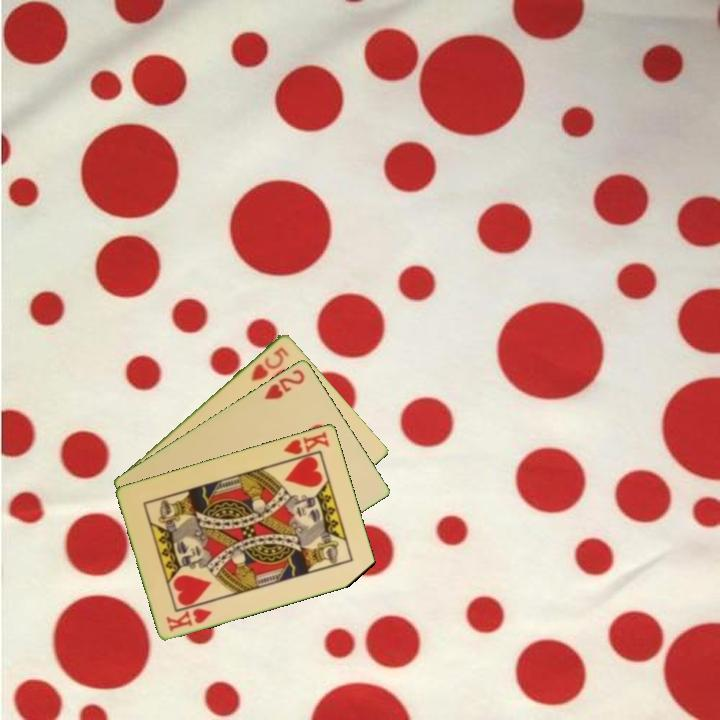2h: (260, 365, 308, 402)
5h: (248, 343, 292, 384)
Kh: (279, 427, 332, 464), (163, 604, 215, 634)
